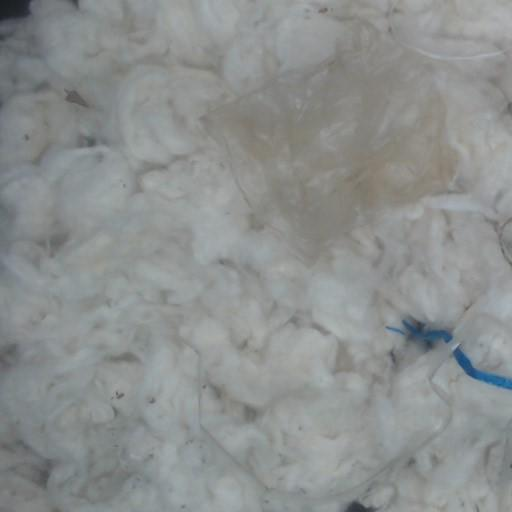cotton: (0, 0, 511, 511)
packet: (205, 22, 454, 256)
thread: (188, 305, 511, 505)
